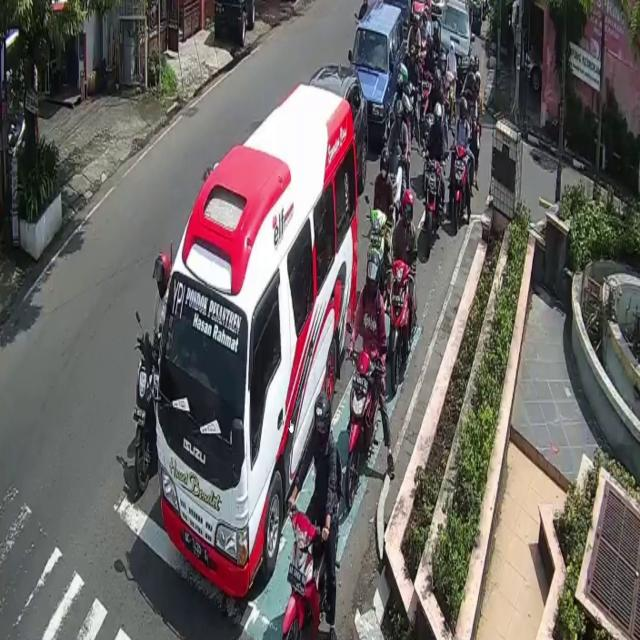bus: (157, 82, 358, 594)
car: (351, 0, 407, 144), (312, 62, 370, 184), (438, 0, 474, 94)
motorbike: (285, 501, 332, 640), (349, 347, 380, 502), (134, 344, 159, 492), (363, 209, 390, 312), (391, 259, 408, 389), (452, 143, 468, 227), (425, 156, 439, 244)
